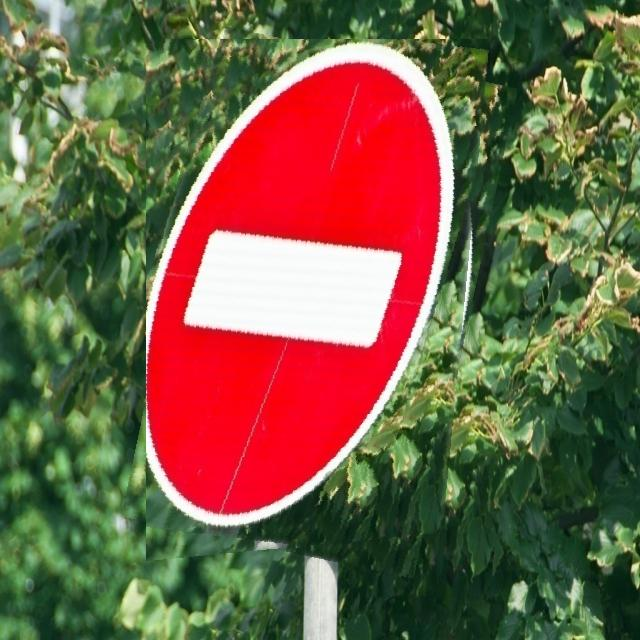no entry: (146, 39, 493, 566)
